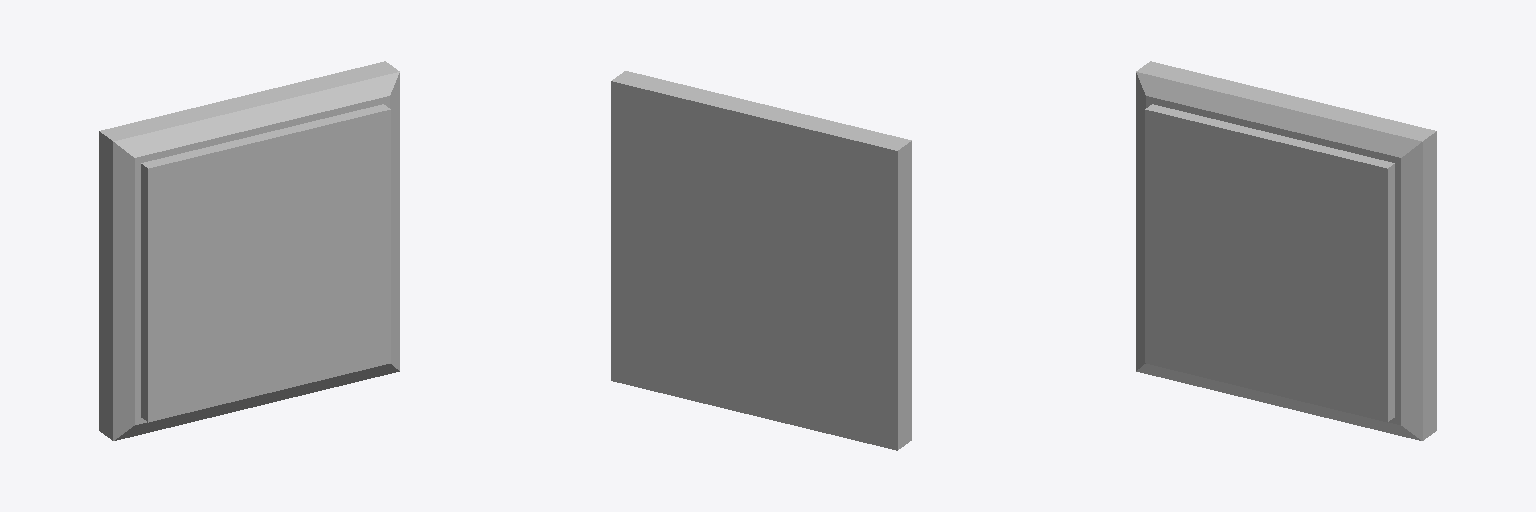
The model's file is kontakt.obj.
3 views of the same model, side by side, from view 1: azimuth 30°, elevation 25°; view 2: azimuth 150°, elevation 25°; view 3: azimuth 330°, elevation 25° (orthographic).
Parts seen in each view (by area): view 1: Kostka; view 2: Kostka; view 3: Kostka.
Boxes of the visible parts, <box> form: Kostka: <box>99,61,399,440</box>; Kostka: <box>611,71,911,450</box>; Kostka: <box>1136,61,1436,440</box>.
Size of the model in its own units: 0.2927 by 0.2927 by 0.0483.